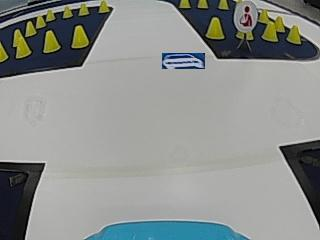cone: (205, 17, 225, 40), (14, 31, 30, 57), (43, 30, 61, 52), (71, 25, 88, 48), (263, 22, 278, 41), (287, 24, 301, 44), (25, 20, 37, 35), (0, 40, 8, 61), (97, 0, 109, 13), (78, 3, 89, 16), (35, 15, 46, 27), (62, 6, 73, 18), (45, 9, 55, 21), (178, 0, 191, 9), (218, 0, 229, 10), (197, 0, 208, 9)
patient: (235, 2, 257, 30)
